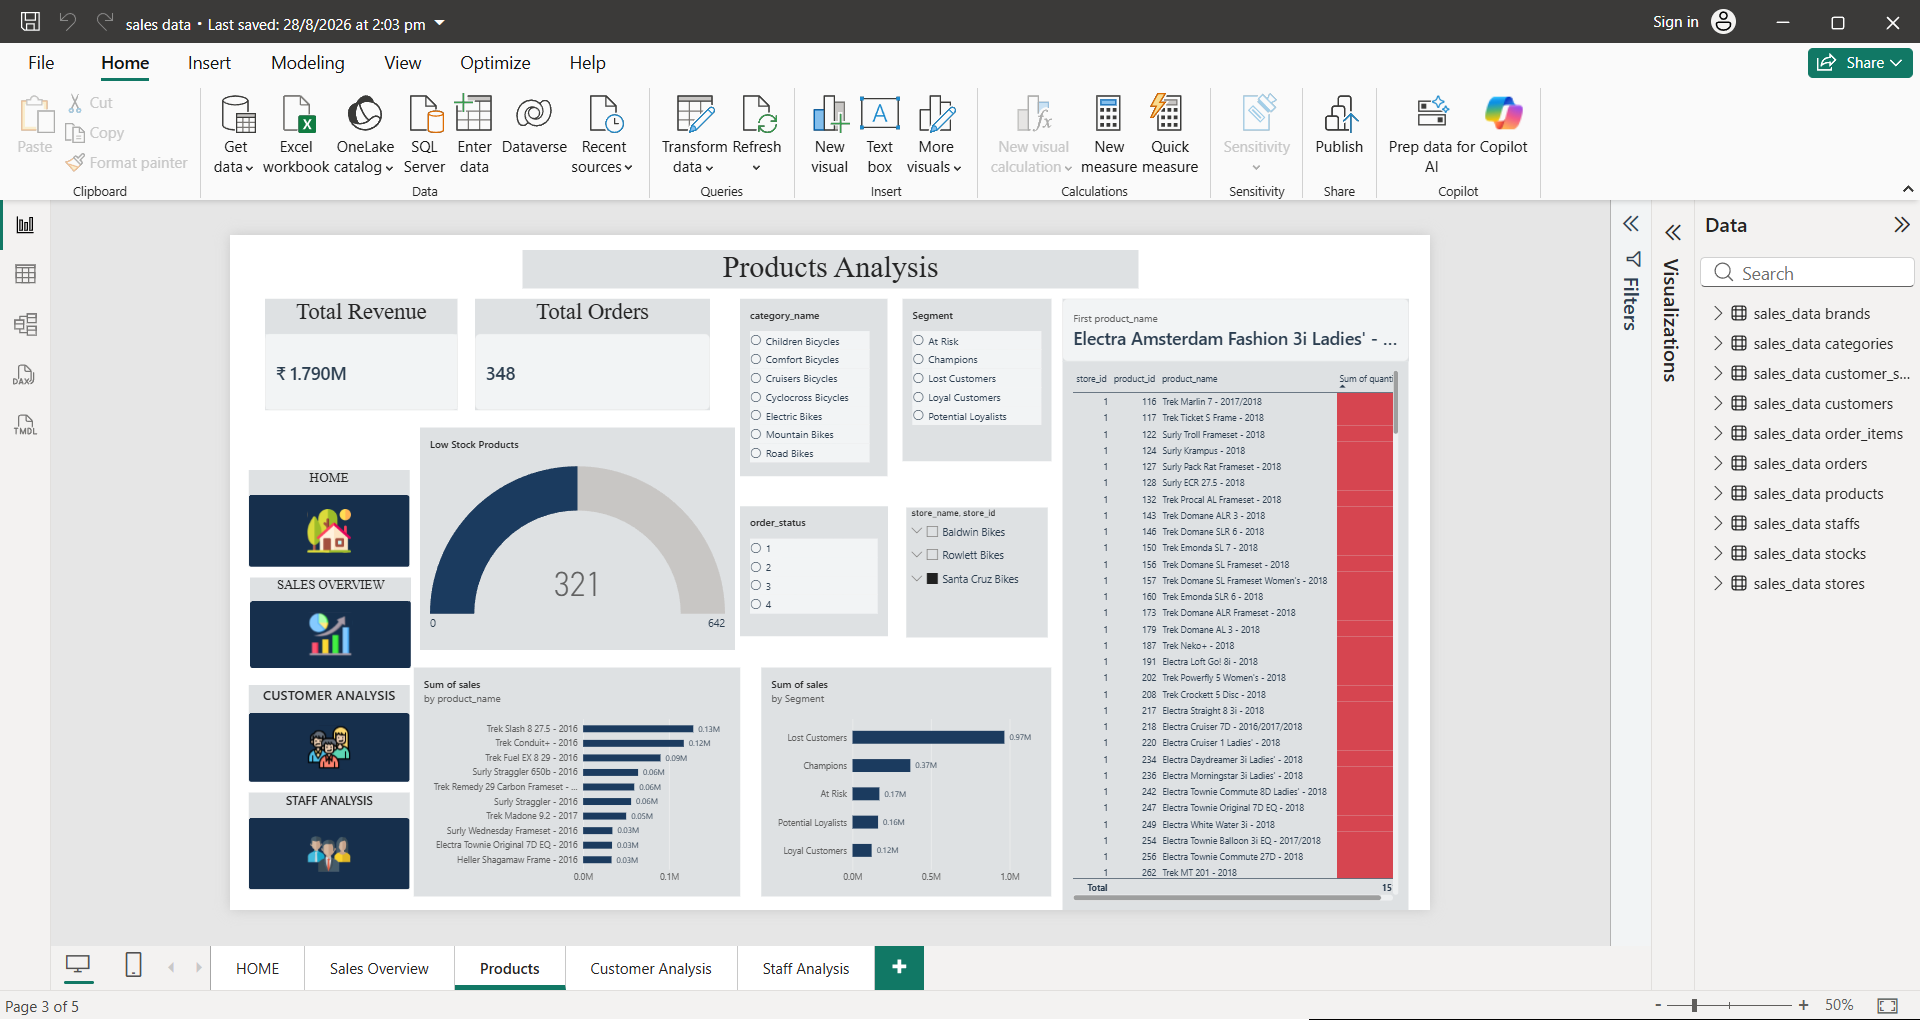

The page's visual inventory and layout, read from the dashboard file:
{"tool":"powerbi","page":{"name":"Products","canvas":[1920,1080],"ordinal":2},"visuals":[{"type":"gauge","fields":{"Y":["sales_data orders.Low Stock Products"]},"box":[304,308,504,356],"z":0},{"type":"tableEx","fields":{"Values":["sales_data stores.store_id","sales_data stocks.product_id","sales_data products.product_name","Sum(sales_data order_items.quantity)"]},"box":[1331.7,201.7,553.7,878.9],"z":1000},{"type":"listSlicer","fields":{"Values":["sales_data categories.category_name"]},"box":[816,102,236,284],"z":2000},{"type":"cardVisual","fields":{"Data":["Min(sales_data order_items.product_name)"]},"box":[1332,102,554,100],"z":3000},{"type":"listSlicer","fields":{"Values":["sales_data orders.order_status"]},"box":[816,434,236.7,207.9],"z":4000},{"type":"slicer","fields":{"Values":["sales_data stores.store_name","sales_data stores.store_id"]},"box":[1082,436,226,208],"z":5000},{"type":"listSlicer","fields":{"Values":["sales_data customer_segments.Segment"]},"box":[1076,102,238,260],"z":6000},{"type":"barChart","fields":{"Category":["sales_data customer_segments.Segment"],"Y":["Sum(sales_data order_items.sales)"]},"box":[850,692,464,366],"z":7000},{"type":"barChart","fields":{"Category":["sales_data order_items.product_name"],"Y":["Sum(sales_data order_items.sales)"]},"box":[294,692,522,366],"z":8000},{"type":"cardVisual","title":"Total Revenue","fields":{"Data":["sales_data order_items.Total Revenue"]},"box":[56,102,308,178],"z":9000},{"type":"cardVisual","title":"Total Orders","fields":{"Data":["sales_data order_items.total orders"]},"box":[392,102,376,178],"z":10000},{"type":"textbox","box":[468,24,985.9,61.7],"z":11000},{"type":"actionButton","title":"HOME","box":[30,375,257.5,155],"z":12000},{"type":"actionButton","title":"SALES OVERVIEW","box":[32.5,547.5,257.5,145],"z":13000},{"type":"actionButton","title":"CUSTOMER ANALYSIS","box":[30,720,257.5,155],"z":14000},{"type":"actionButton","title":"STAFF ANALYSIS","box":[30,892.5,257.5,155],"z":15000}]}

Visuals, with their boxes on the page's 1920x1080 design canvas (x1, y1, x2, y2). These are canvas units, not pixel positions in the 1920x1020 screenshot, which may show the page scaled, cropped or inside an application window:
gauge - sales_data orders.Low Stock Products: x1=304, y1=308, x2=808, y2=664
tableEx - sales_data stores.store_id x sales_data stocks.product_id: x1=1332, y1=202, x2=1885, y2=1081
listSlicer - sales_data categories.category_name: x1=816, y1=102, x2=1052, y2=386
cardVisual - Min(sales_data order_items.product_name): x1=1332, y1=102, x2=1886, y2=202
listSlicer - sales_data orders.order_status: x1=816, y1=434, x2=1053, y2=642
slicer - sales_data stores.store_name x sales_data stores.store_id: x1=1082, y1=436, x2=1308, y2=644
listSlicer - sales_data customer_segments.Segment: x1=1076, y1=102, x2=1314, y2=362
barChart - sales_data customer_segments.Segment x Sum(sales_data order_items.sales): x1=850, y1=692, x2=1314, y2=1058
barChart - sales_data order_items.product_name x Sum(sales_data order_items.sales): x1=294, y1=692, x2=816, y2=1058
"Total Revenue" cardVisual: x1=56, y1=102, x2=364, y2=280
"Total Orders" cardVisual: x1=392, y1=102, x2=768, y2=280
textbox: x1=468, y1=24, x2=1454, y2=86
"HOME" actionButton: x1=30, y1=375, x2=288, y2=530
"SALES OVERVIEW" actionButton: x1=32, y1=548, x2=290, y2=692
"CUSTOMER ANALYSIS" actionButton: x1=30, y1=720, x2=288, y2=875
"STAFF ANALYSIS" actionButton: x1=30, y1=892, x2=288, y2=1048
